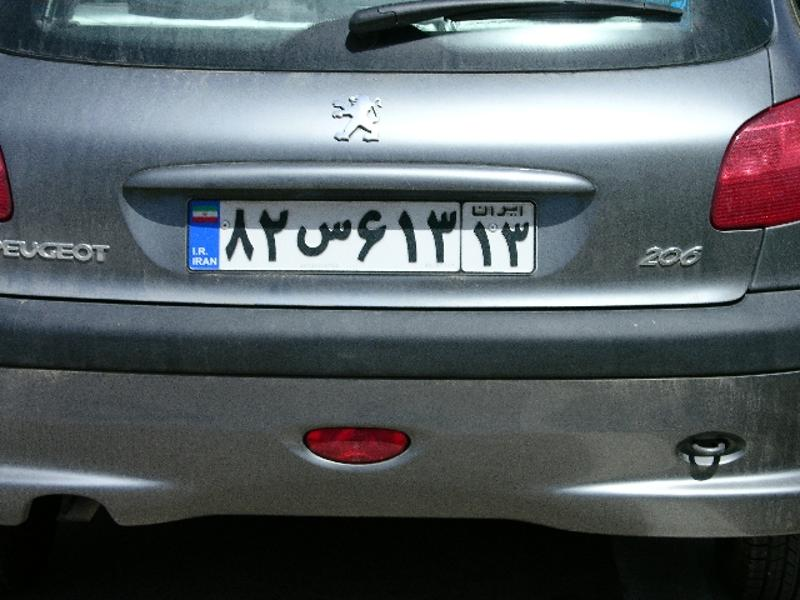Plate: (187, 198, 543, 282)
